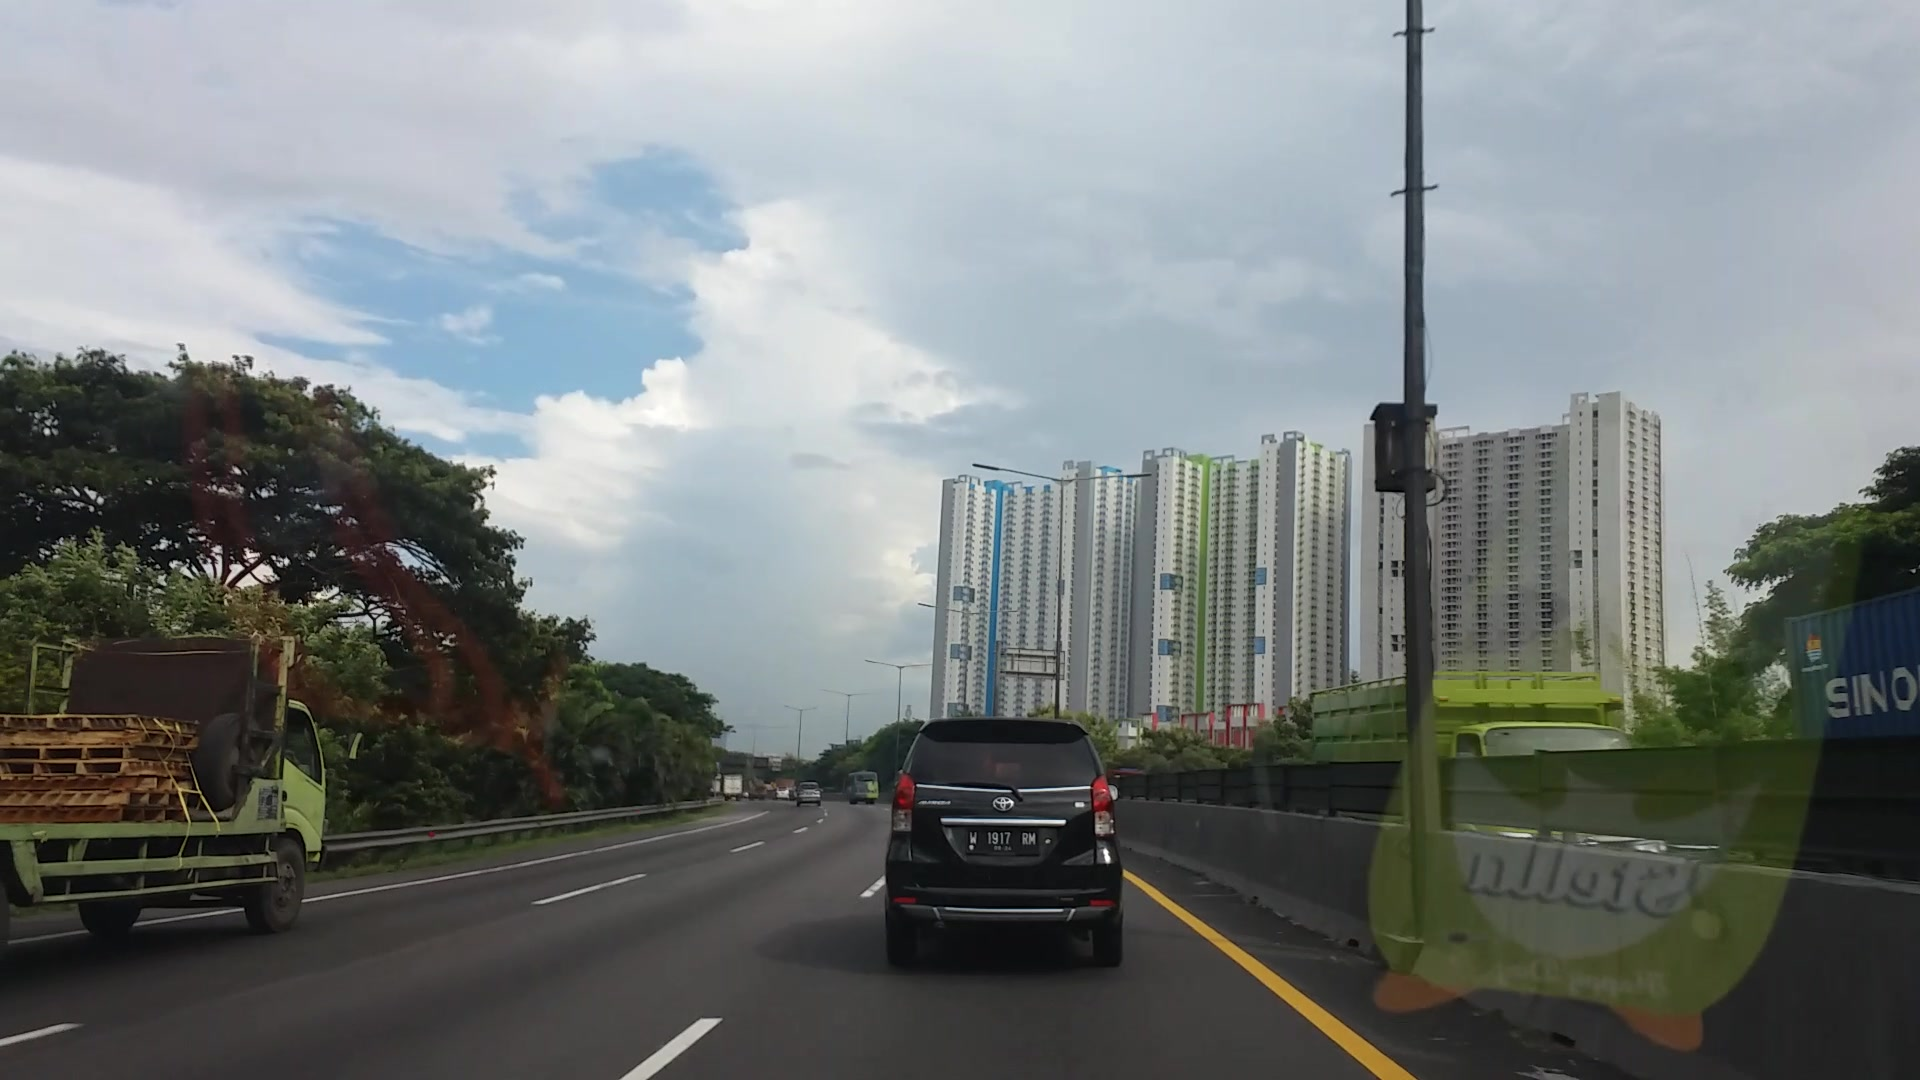plate_positive: (967, 827, 1038, 855)
